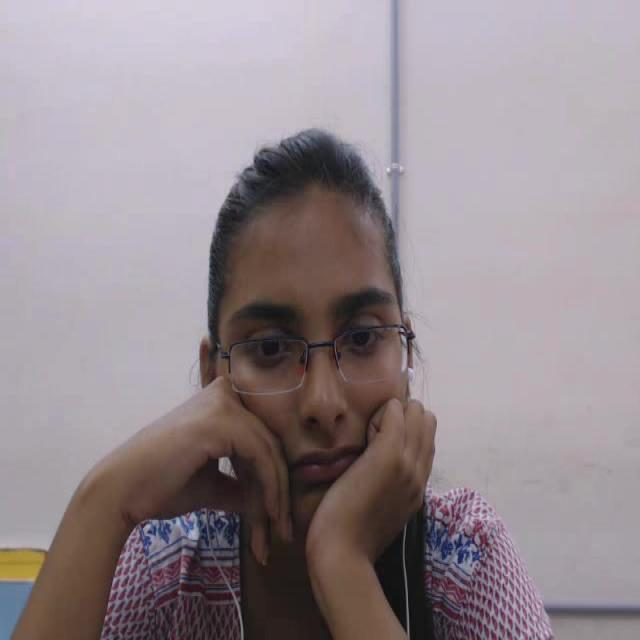Bored: (181, 131, 450, 559)
